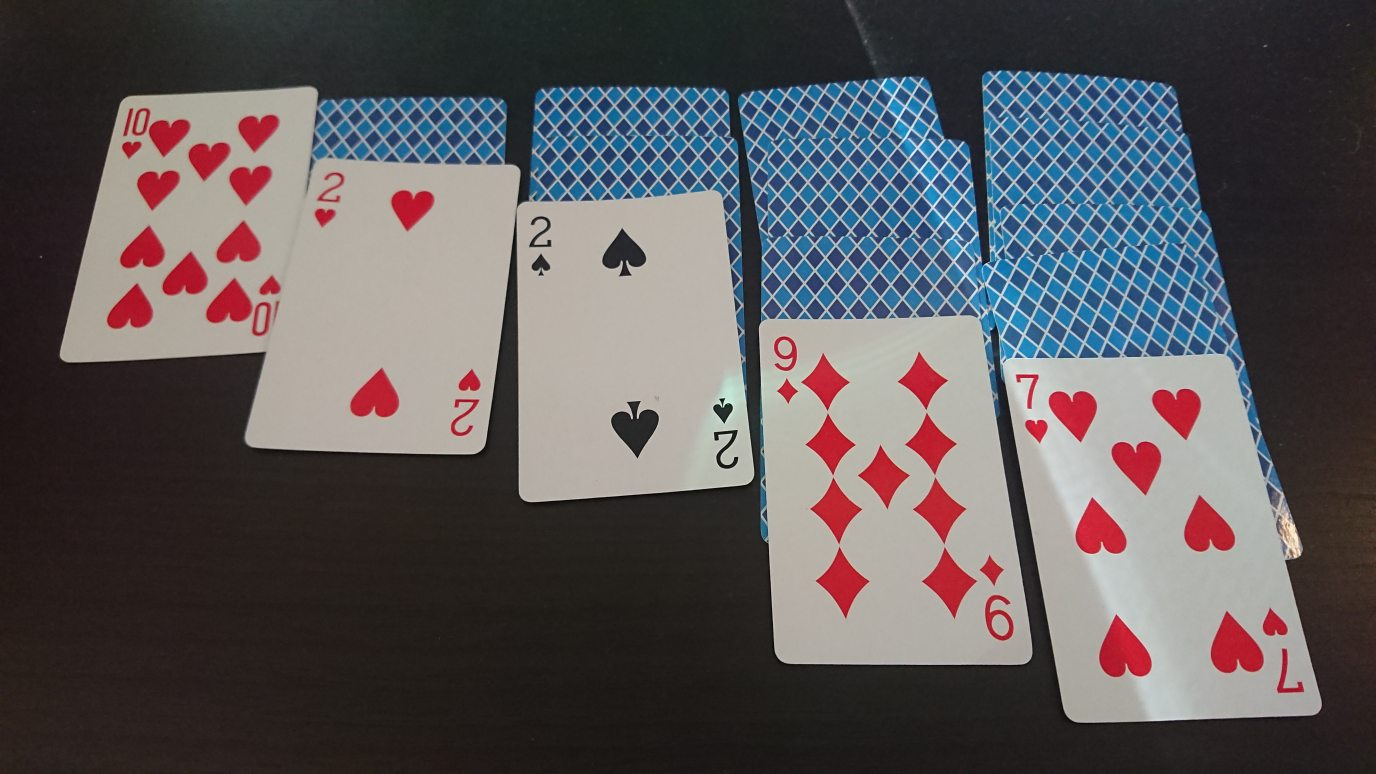10H: (118, 105, 153, 163)
2H: (312, 169, 346, 231)
2S: (526, 213, 554, 280)
7H: (1012, 371, 1049, 446)
9D: (771, 333, 800, 406)
BACK: (983, 245, 1234, 355), (765, 138, 983, 240), (991, 116, 1202, 206), (761, 234, 979, 316), (313, 96, 508, 163), (736, 75, 946, 137), (537, 134, 741, 196), (979, 68, 1184, 127), (534, 86, 730, 134), (1001, 202, 1216, 243)
